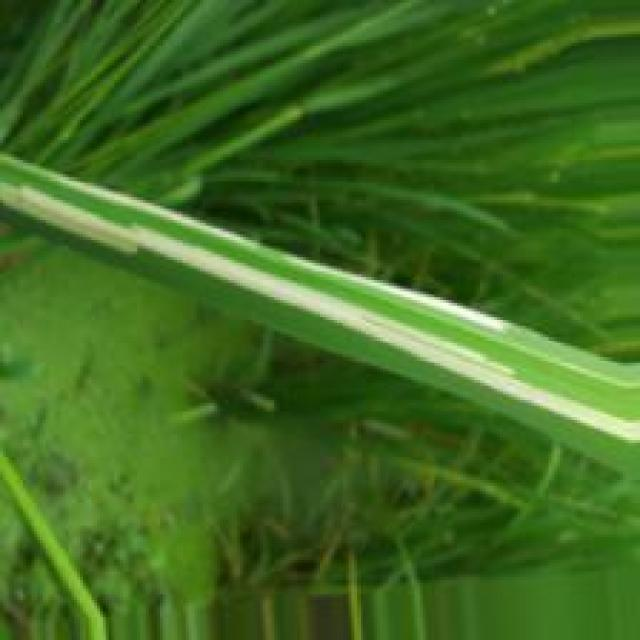Rice_Hispa: (0, 174, 640, 450), (0, 160, 525, 343)
